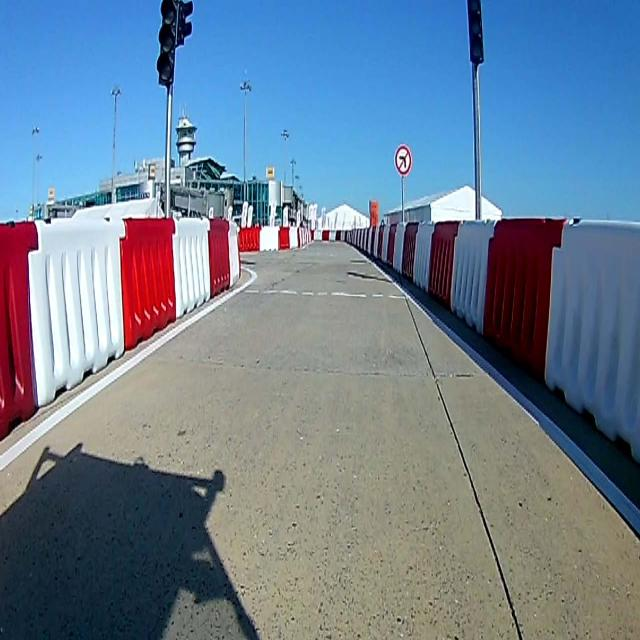soladonulmez: (395, 146, 411, 176)
